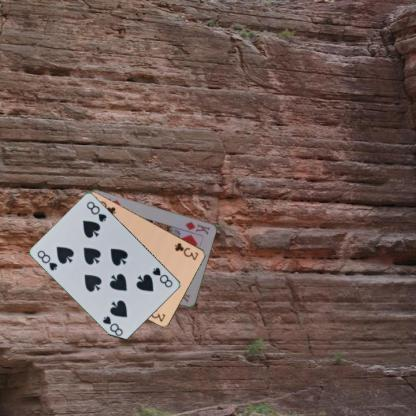3c: (172, 240, 200, 261)
8s: (150, 265, 174, 289), (35, 248, 59, 272)
Kd: (182, 219, 212, 236)
